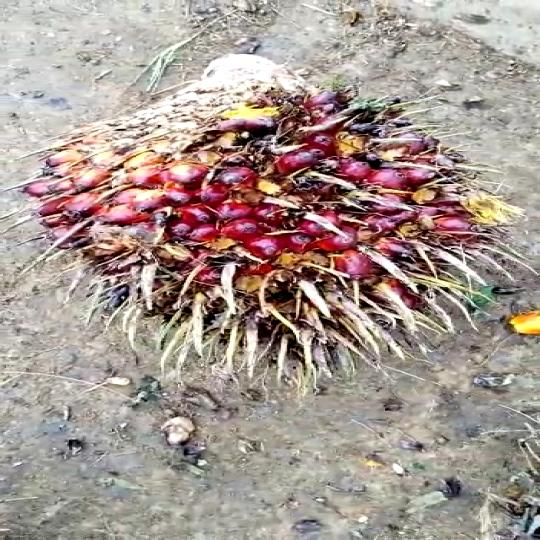masak: (25, 55, 517, 363)
